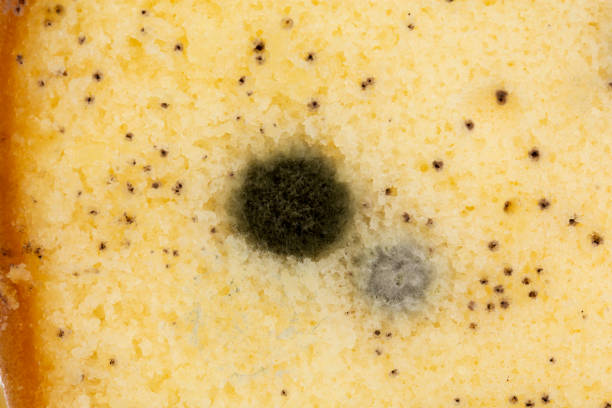mold_bread: (212, 120, 359, 256), (353, 232, 446, 313)
